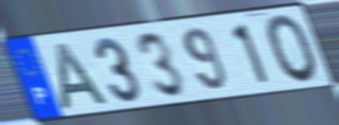1: (231, 20, 271, 86)
3: (135, 29, 187, 101), (94, 35, 143, 105)
9: (181, 26, 229, 93)
A: (53, 40, 112, 112)
O: (265, 12, 321, 86)
